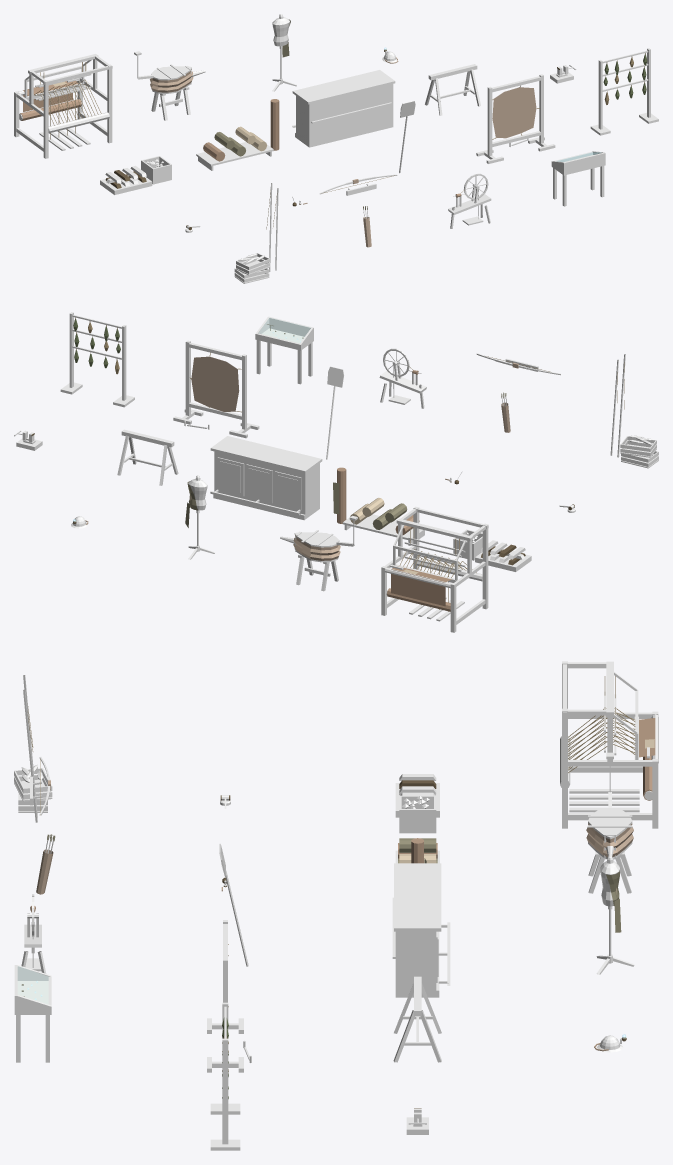
Rendered from props_int_mano.glb.
3 views of the same model, one above another, from view 1: azimuth 30°, elevation 25°; view 2: azimuth 150°, elevation 25°; view 3: azimuth 270°, elevation 25° (orthographic). The views are drawn at different scales.
Visible parts, largest first — view 1: PROP_Bar_Counter, PROP_Loom, PROP_Tanning_Frame, PROP_Cloth_Rolls, PROP_Herb_Rack, PROP_Forge_Bellows, PROP_Ingots_Coal, PROP_Jeweler_Case, PROP_Fish_Crates, PROP_Spinning_Wheel, PROP_Trestle, PROP_Dress_Form (+1 smaller); view 2: PROP_Loom, PROP_Bar_Counter, PROP_Tanning_Frame, PROP_Cloth_Rolls, PROP_Herb_Rack, PROP_Forge_Bellows, PROP_Jeweler_Case, PROP_Fish_Crates, PROP_Ingots_Coal, PROP_Spinning_Wheel, PROP_Trestle, PROP_Dress_Form (+2 smaller); view 3: PROP_Loom, PROP_Bar_Counter, PROP_Forge_Bellows, PROP_Ingots_Coal, PROP_Jeweler_Case, PROP_Fish_Crates, PROP_Herb_Rack, PROP_Trestle, PROP_Dress_Form, PROP_Tanning_Frame, PROP_Cloth_Rolls, PROP_Spinning_Wheel (+1 smaller).
Boxes of the visible parts, x1,y1,x2,y2 form: PROP_Bar_Counter: [292, 70, 395, 147]; PROP_Loom: [14, 54, 112, 158]; PROP_Tanning_Frame: [476, 74, 555, 163]; PROP_Cloth_Rolls: [196, 99, 279, 170]; PROP_Herb_Rack: [590, 48, 658, 135]; PROP_Forge_Bellows: [134, 51, 205, 120]; PROP_Ingots_Coal: [100, 156, 171, 194]; PROP_Jeweler_Case: [551, 151, 605, 206]; PROP_Fish_Crates: [234, 183, 278, 283]; PROP_Spinning_Wheel: [448, 173, 491, 228]; PROP_Trestle: [425, 64, 480, 115]; PROP_Dress_Form: [272, 14, 296, 91]; PROP_Loom: [381, 506, 488, 632]; PROP_Bar_Counter: [210, 436, 322, 520]; PROP_Tanning_Frame: [173, 340, 259, 438]; PROP_Cloth_Rolls: [333, 467, 424, 545]; PROP_Herb_Rack: [60, 312, 134, 407]; PROP_Forge_Bellows: [280, 515, 357, 591]; PROP_Jeweler_Case: [255, 316, 313, 384]; PROP_Fish_Crates: [610, 354, 658, 468]; PROP_Ingots_Coal: [453, 529, 531, 571]; PROP_Spinning_Wheel: [379, 348, 426, 408]; PROP_Trestle: [117, 429, 178, 485]; PROP_Dress_Form: [185, 475, 215, 559]; PROP_Loom: [560, 661, 658, 828]; PROP_Bar_Counter: [392, 863, 450, 997]; PROP_Forge_Bellows: [586, 752, 633, 893]; PROP_Ingots_Coal: [395, 774, 439, 833]; PROP_Jeweler_Case: [14, 965, 51, 1062]; PROP_Fish_Crates: [14, 675, 52, 822]; PROP_Herb_Rack: [210, 1002, 240, 1150]; PROP_Trestle: [393, 976, 441, 1062]; PROP_Dress_Form: [596, 856, 634, 974]; PROP_Tanning_Frame: [207, 920, 251, 1072]; PROP_Cloth_Rolls: [395, 838, 439, 863]; PROP_Spinning_Wheel: [21, 894, 46, 973].
Size of what is drawn, in the model's own units: 11.91 by 2.1 by 8.72.
Materials: 15 (11 with a texture image).
